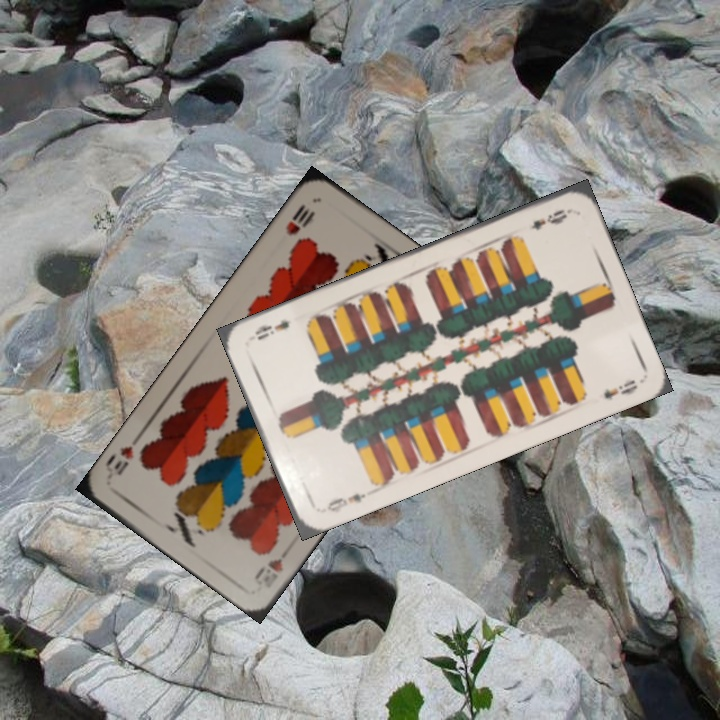E9: (323, 486, 374, 516), (527, 205, 573, 234)
H10: (281, 200, 318, 239), (250, 554, 287, 582)
